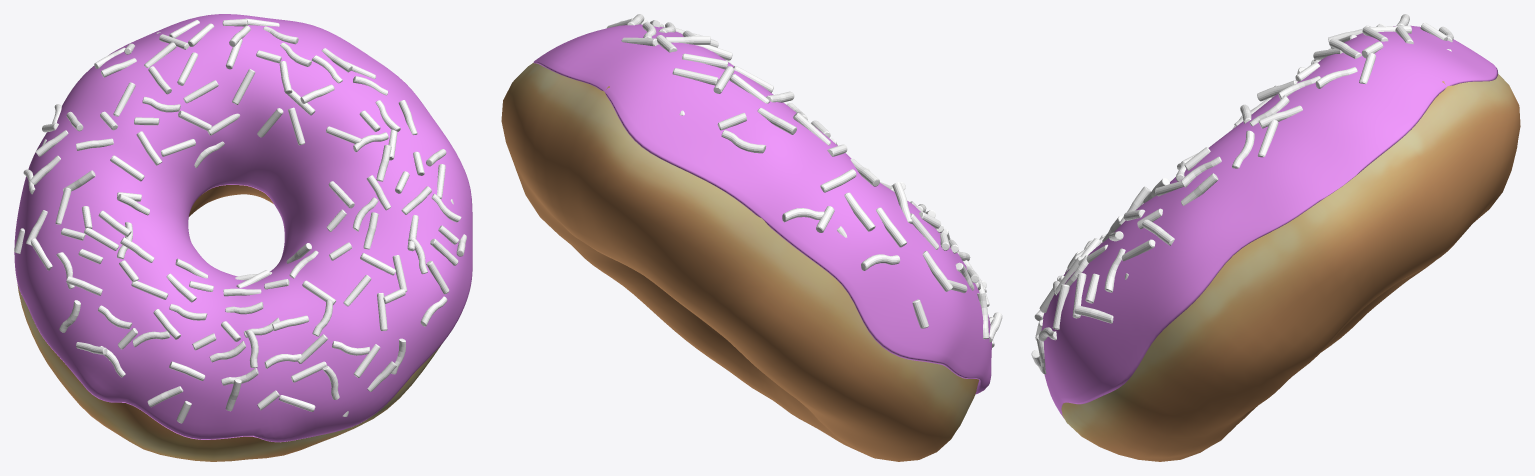
File: donut.glb
3 renders of one model, left to right at view 1: azimuth 30°, elevation 25°; view 2: azimuth 150°, elevation 25°; view 3: azimuth 270°, elevation 25°, orthographic. The views are drawn at different scales.
Visible parts, largest first — view 1: icing, donut; view 2: donut, icing; view 3: donut, icing.
Boxes of the visible parts, x1,y1,x2,y2 form: icing: (14,14,472,442); donut: (17,185,442,461); donut: (501,63,978,461); icing: (533,14,1002,394); donut: (1061,74,1520,461); icing: (1031,14,1497,417).
Size of the model in its own units: 1.15 by 1.02 by 1.05.
3 materials, 1 textured.
